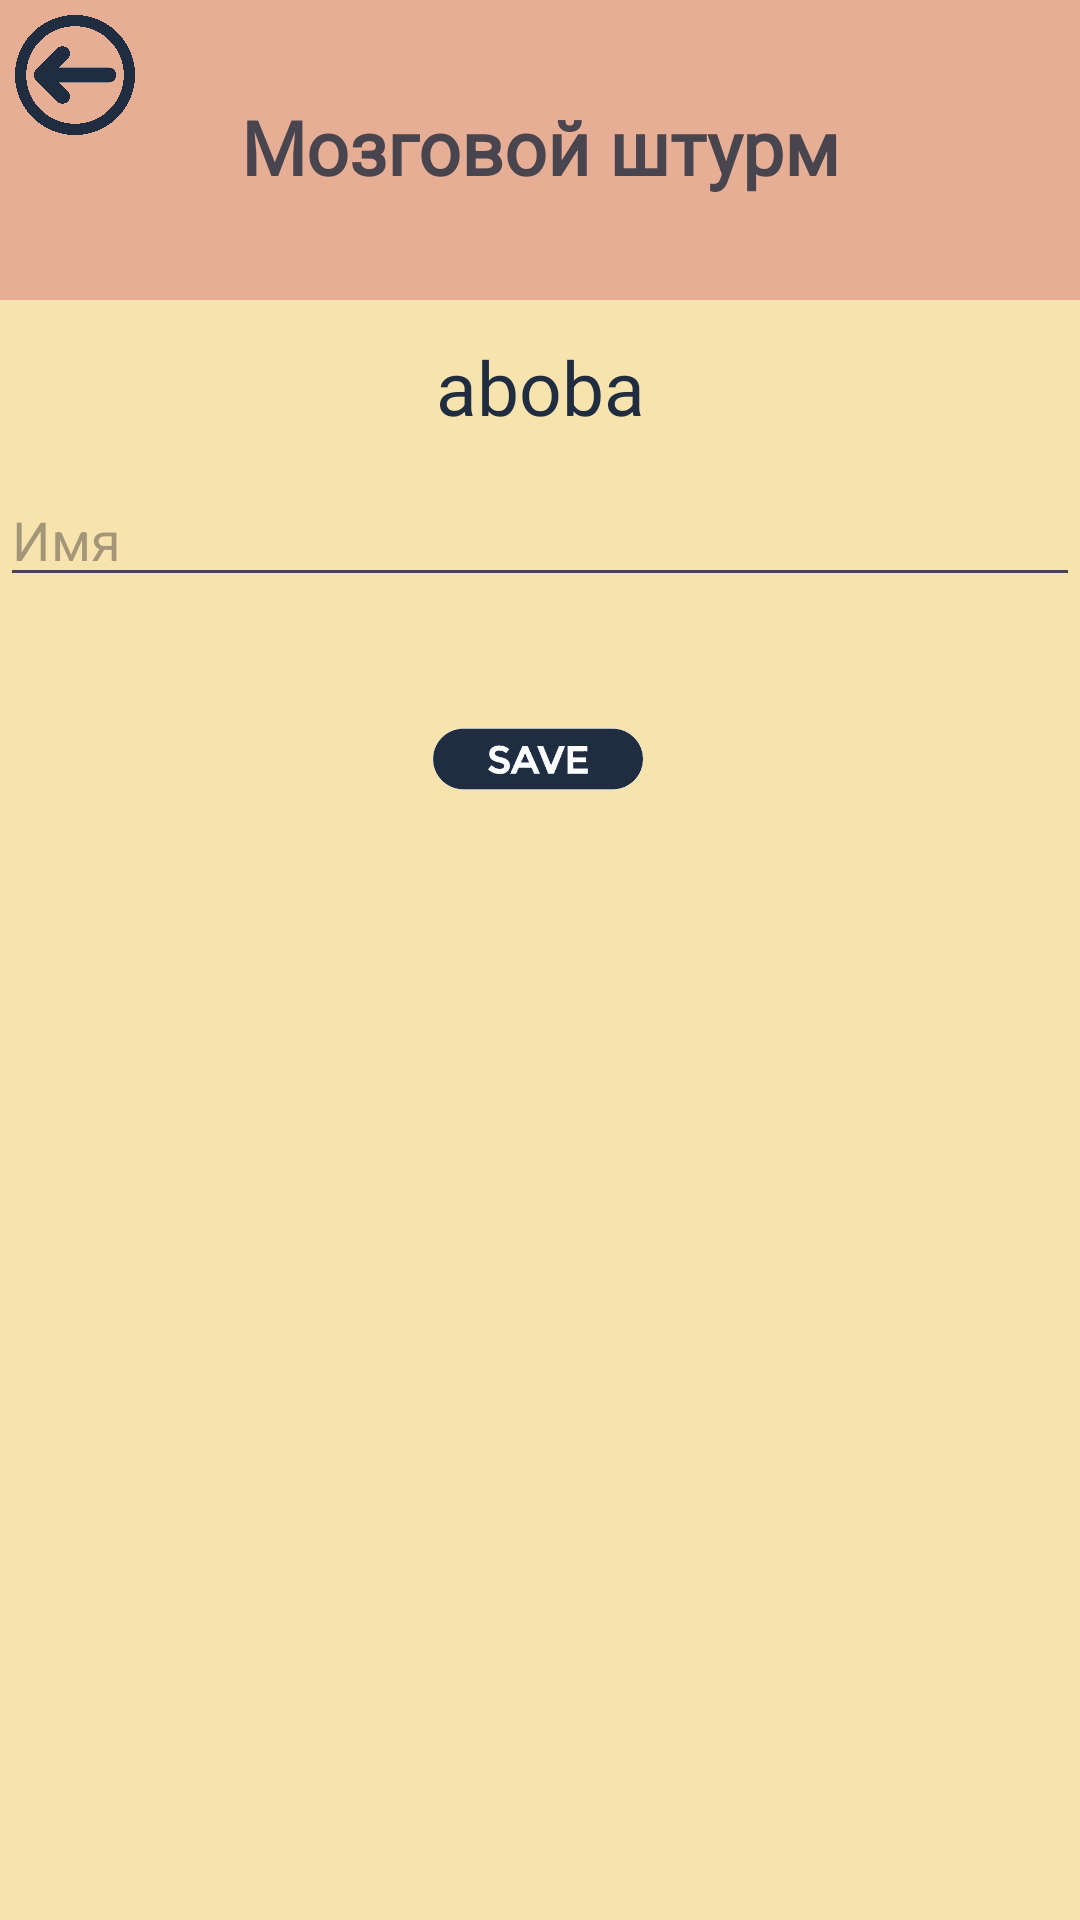

Icons on this 1080px×1920px Android screen, each with its box as Rect(x1, y1, x2, y2):
backbutton: Rect(15, 15, 135, 135)
